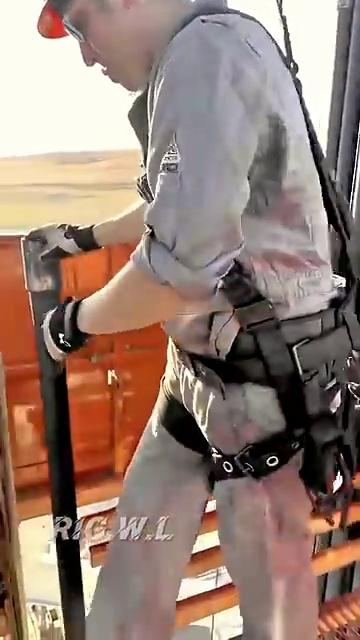glasses: (68, 18, 85, 68)
gloves: (33, 195, 110, 382)
helmet: (38, 0, 67, 55)
worker: (52, 7, 330, 638)
